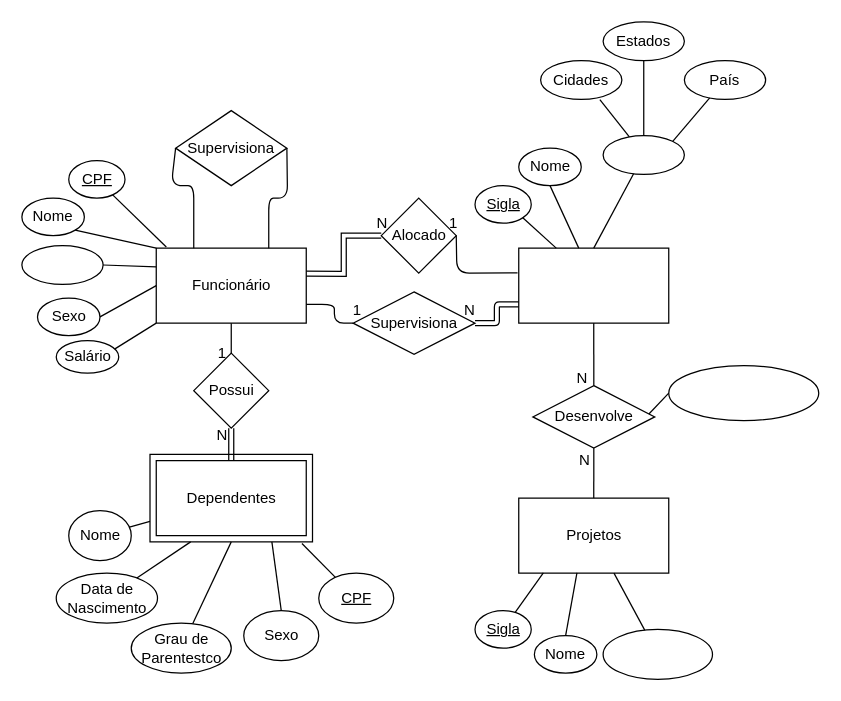
This 841x701 diagram has some shape labels left out. Here are the shapes that lost their labels. From the top down, the centre of each, then its label:
pixel 643 154: Locais
pixel 62 264: Endereço
pixel 593 285: Departamento
pixel 743 392: Horas de Desenvolvimento
pixel 657 653: Data de Conclusão
